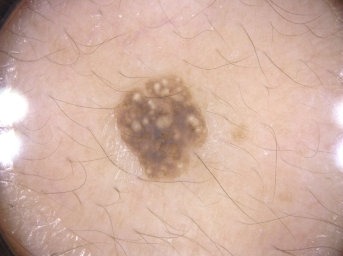seborrheic keratosis: (94, 64, 222, 194)
